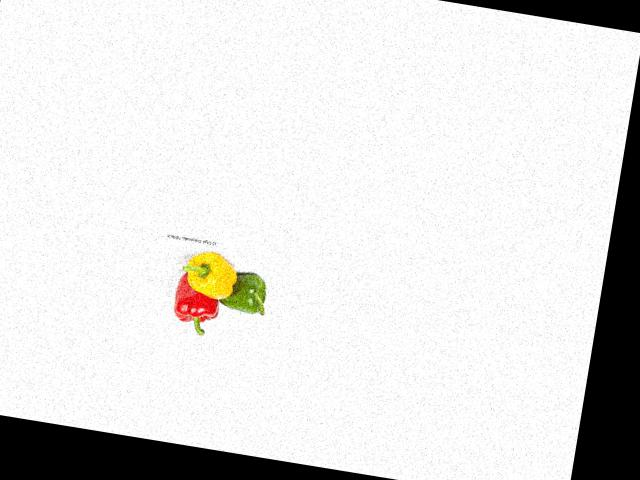bell_pepper: (165, 273, 224, 337)
